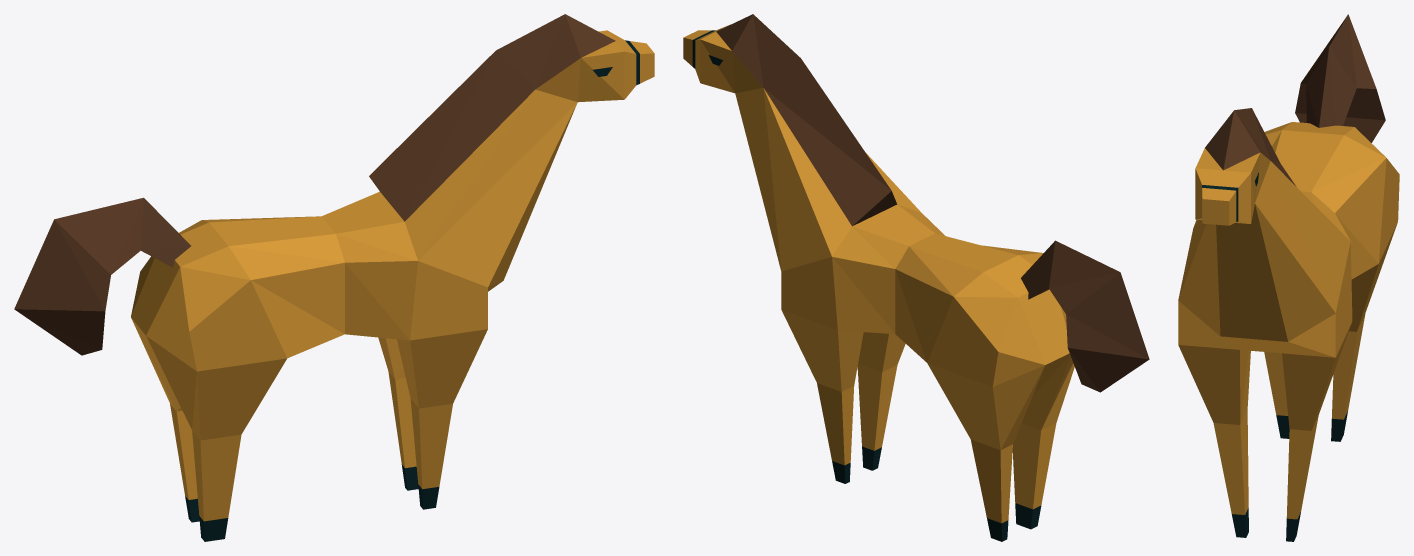
The model's file is HORSE.fbx.
The picture shows the model from 3 angles, left to right: view 1: azimuth 30°, elevation 25°; view 2: azimuth 150°, elevation 25°; view 3: azimuth 270°, elevation 25°; orthographic projection. The views are drawn at different scales.
Parts seen in each view (by area): view 1: HORSE; view 2: HORSE; view 3: HORSE.
Part boxes in pixels (box(x1,y1,x2,y2)): HORSE: box(14, 14, 654, 541); HORSE: box(683, 14, 1149, 541); HORSE: box(1178, 14, 1399, 541).
Bounding box in the file's own units: 258 × 199 × 81.06.
1 material, 1 textured.
